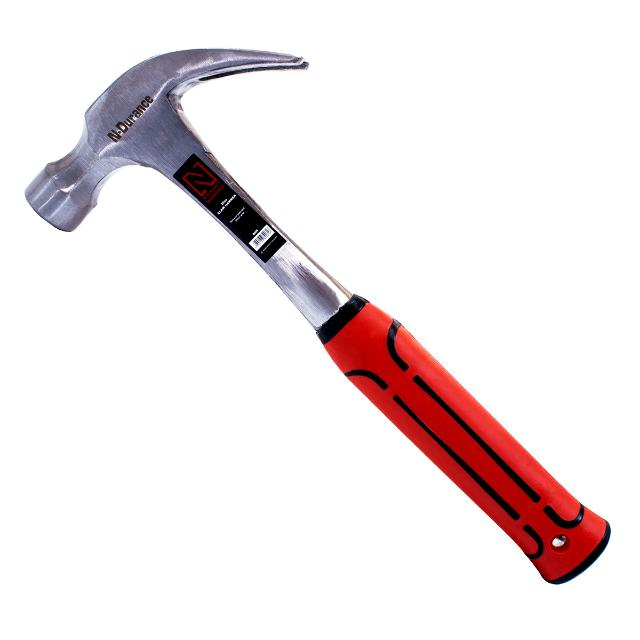hammer: (17, 38, 621, 590)
